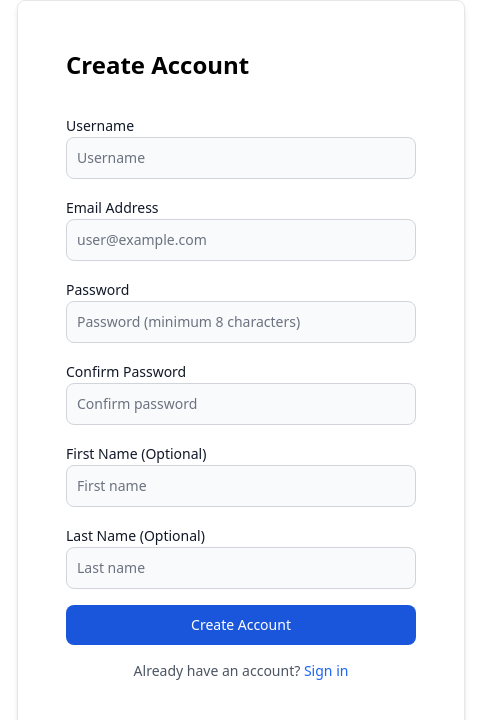
it: Register › shows error message when required fields are missing
Click the button "Create Account" at (241, 625), box [66,605,416,645]
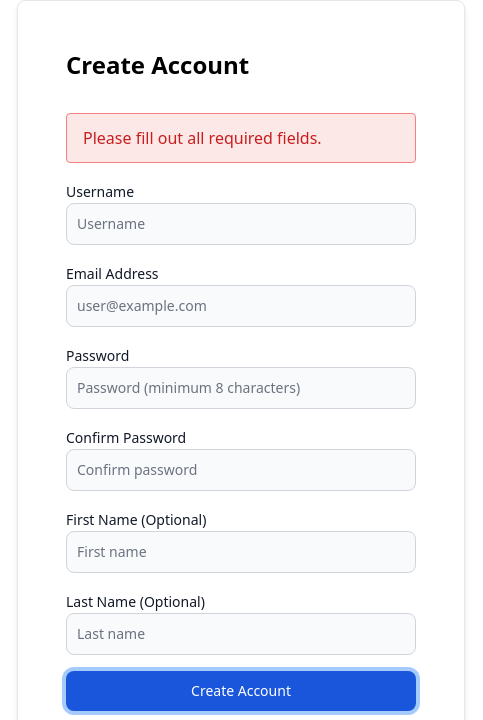
Result: the text "Please fill out all required fields." is shown at [66,113,416,163]
